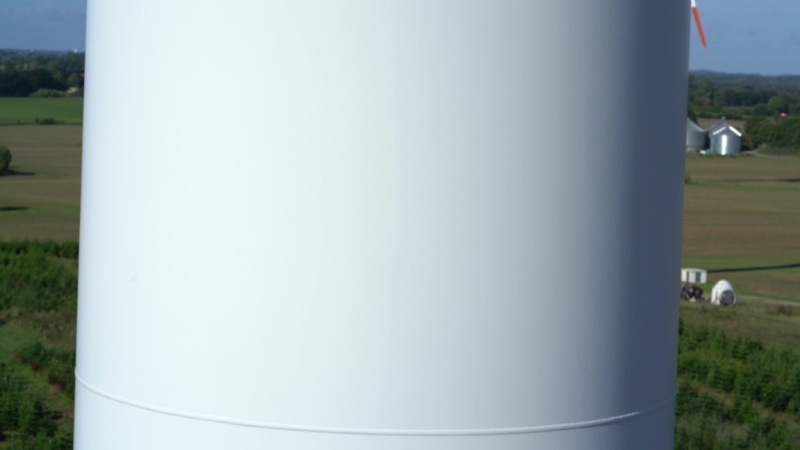weldseam: (71, 366, 678, 440)
